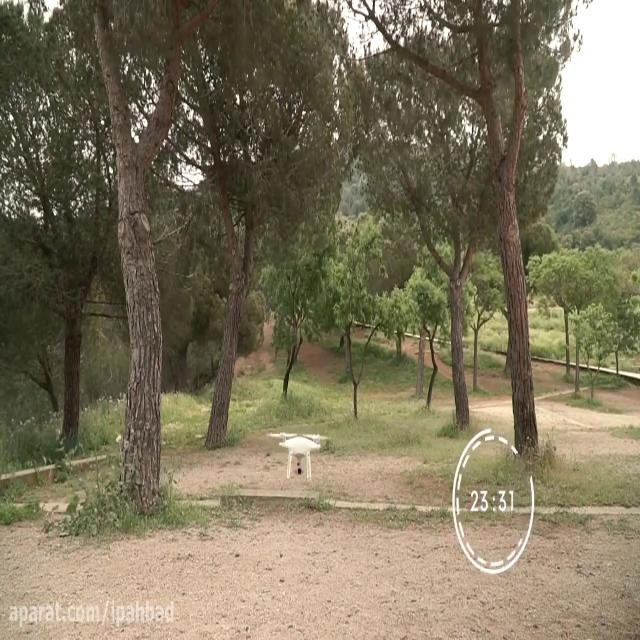drone: (264, 426, 330, 484)
